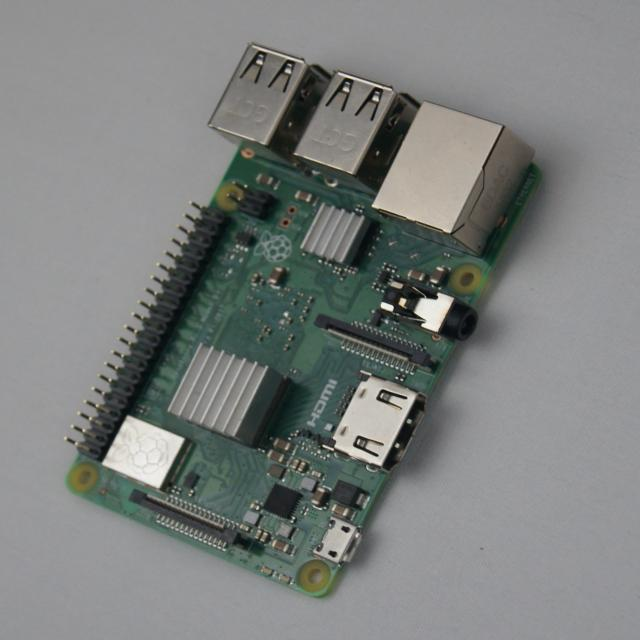Raspberry Pi 3 B-: (66, 45, 538, 598)
